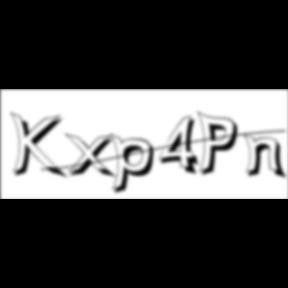4: (158, 115, 206, 179)
K: (11, 110, 70, 182)
P: (196, 110, 243, 180)
p: (111, 132, 161, 198)
x: (64, 132, 119, 181)
